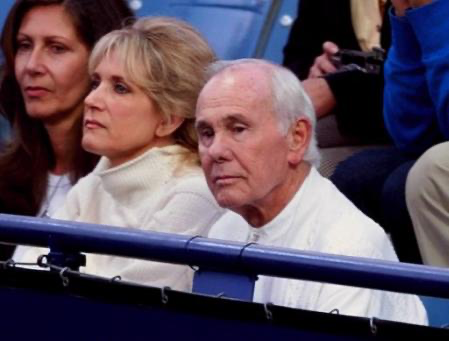Face: (190, 93, 279, 218), (12, 20, 86, 118), (76, 56, 145, 152)
